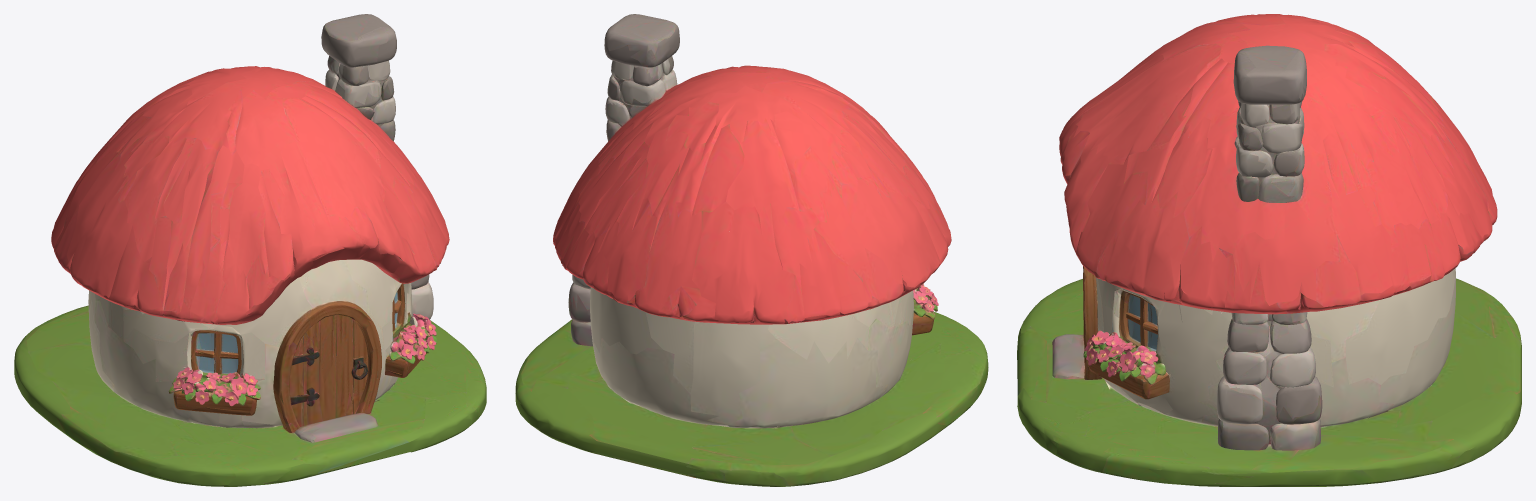
Rendered from cottage.glb.
3 renders of one model, left to right at view 1: azimuth 30°, elevation 25°; view 2: azimuth 150°, elevation 25°; view 3: azimuth 270°, elevation 25°, orthographic. The views are drawn at different scales.
Size of the model in its own units: 1.9 by 1.61 by 1.9.
Materials: 1 (1 with a texture image).
